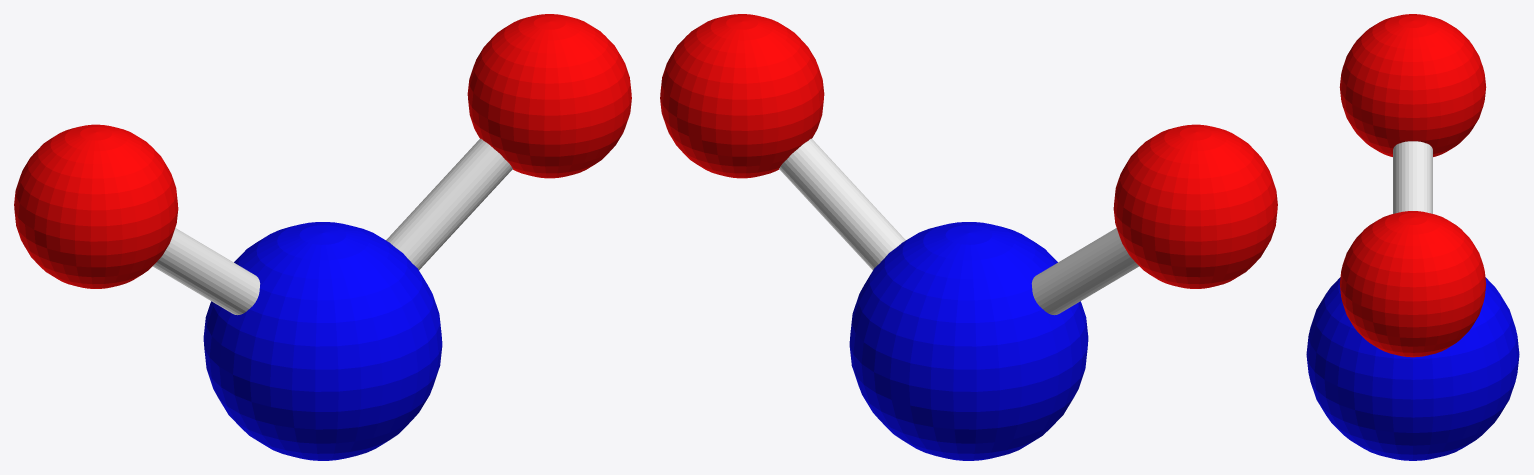
The picture shows the model from 3 angles, left to right: view 1: azimuth 30°, elevation 25°; view 2: azimuth 150°, elevation 25°; view 3: azimuth 270°, elevation 25°; orthographic projection. The views are drawn at different scales.
Parts seen in each view (by area): view 1: Sphere; view 2: Sphere; view 3: Sphere.
Part boxes in pixels (x1,y1,x2,y2): Sphere: (14,14,631,460); Sphere: (660,14,1277,460); Sphere: (1306,14,1519,460).
Size of the model in its own units: 0.138 by 0.0825 by 0.048.
